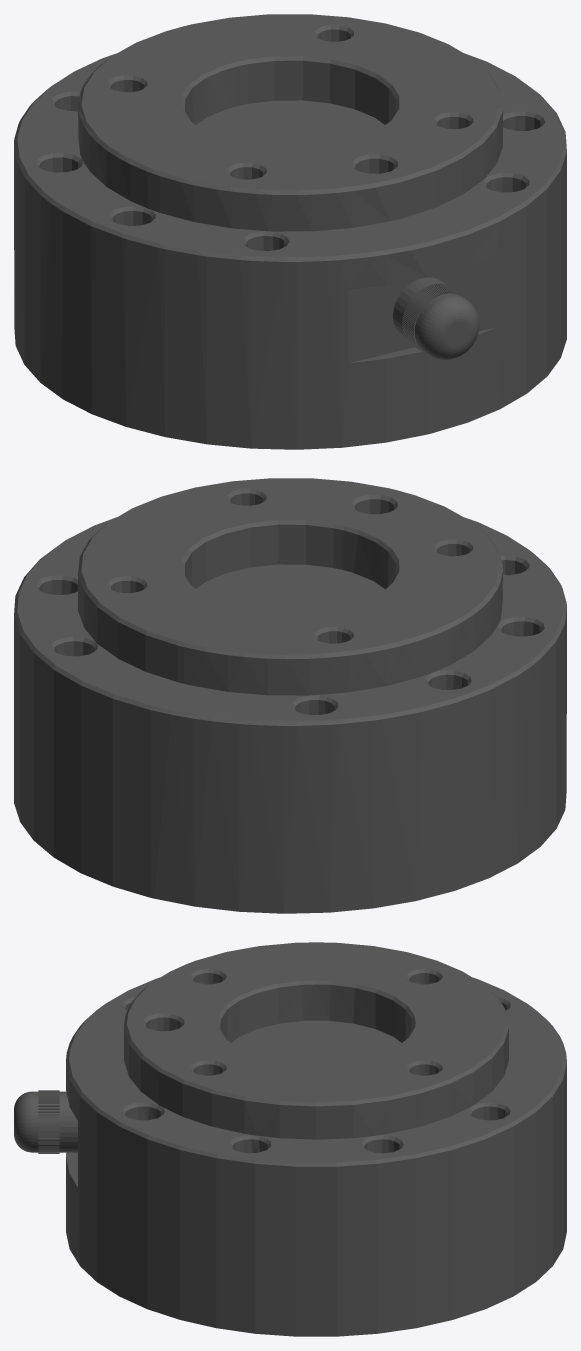
3 views of the same model, one above another, from view 1: azimuth 30°, elevation 25°; view 2: azimuth 150°, elevation 25°; view 3: azimuth 270°, elevation 25° (orthographic). The views are drawn at different scales.
Parts seen in each view (by area): view 1: Link6; view 2: Link6; view 3: Link6.
Part boxes in pixels (bbox=[...]): Link6: bbox=[14, 14, 566, 449]; Link6: bbox=[14, 478, 566, 913]; Link6: bbox=[14, 942, 566, 1336].
Bounding box in the file's own units: 0.0819 × 0.0905 × 0.0377.
